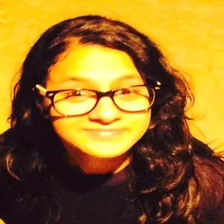no_mask: (43, 52, 153, 158)
